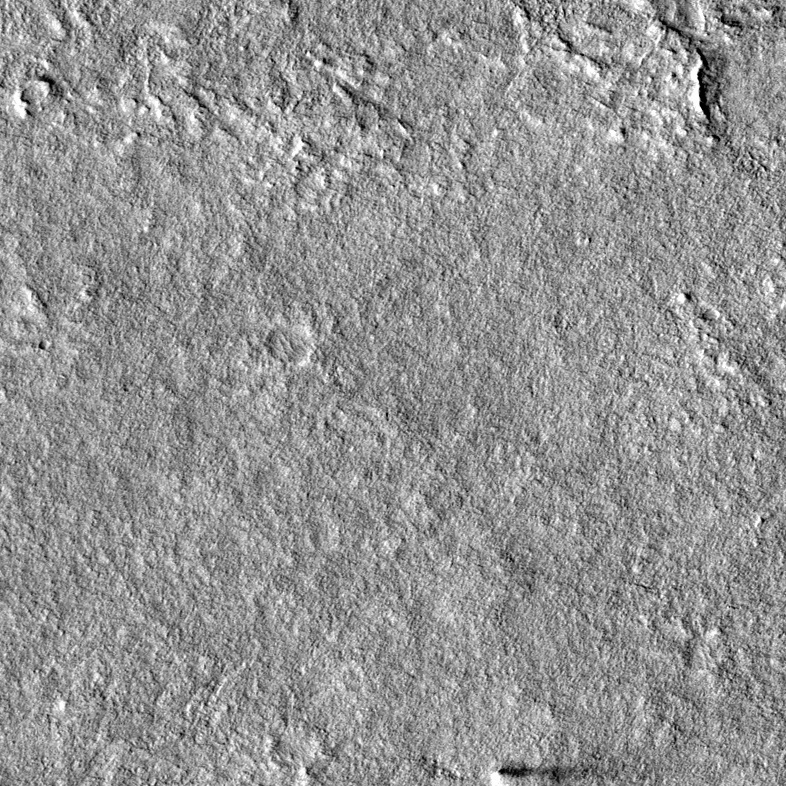dust_devil: (486, 759, 594, 786)
